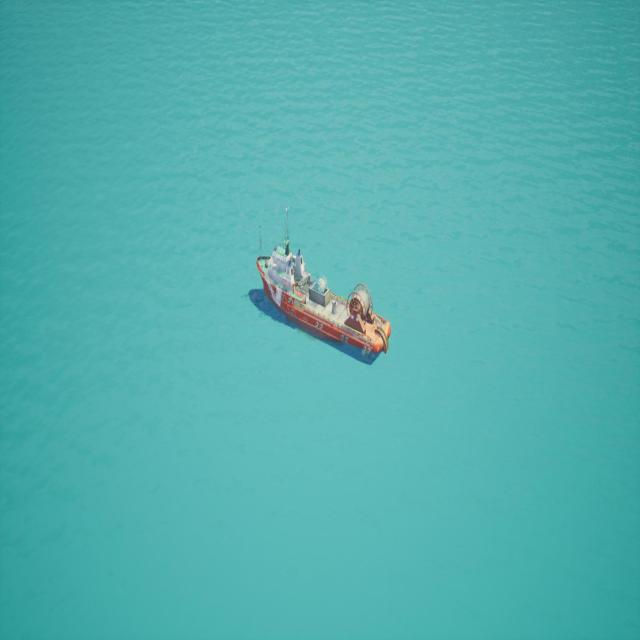tug boat: (251, 222, 390, 369)
